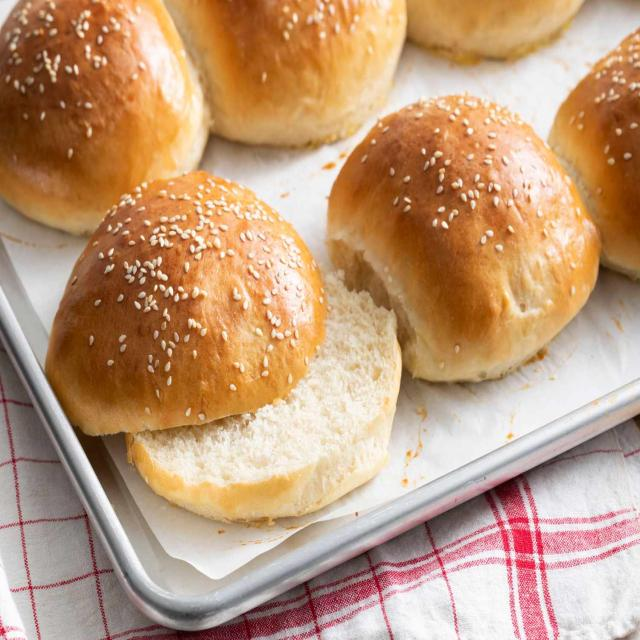Bun: (47, 172, 410, 533), (317, 81, 605, 387), (0, 0, 210, 239), (157, 0, 416, 161), (544, 26, 640, 288), (406, 0, 603, 64)
